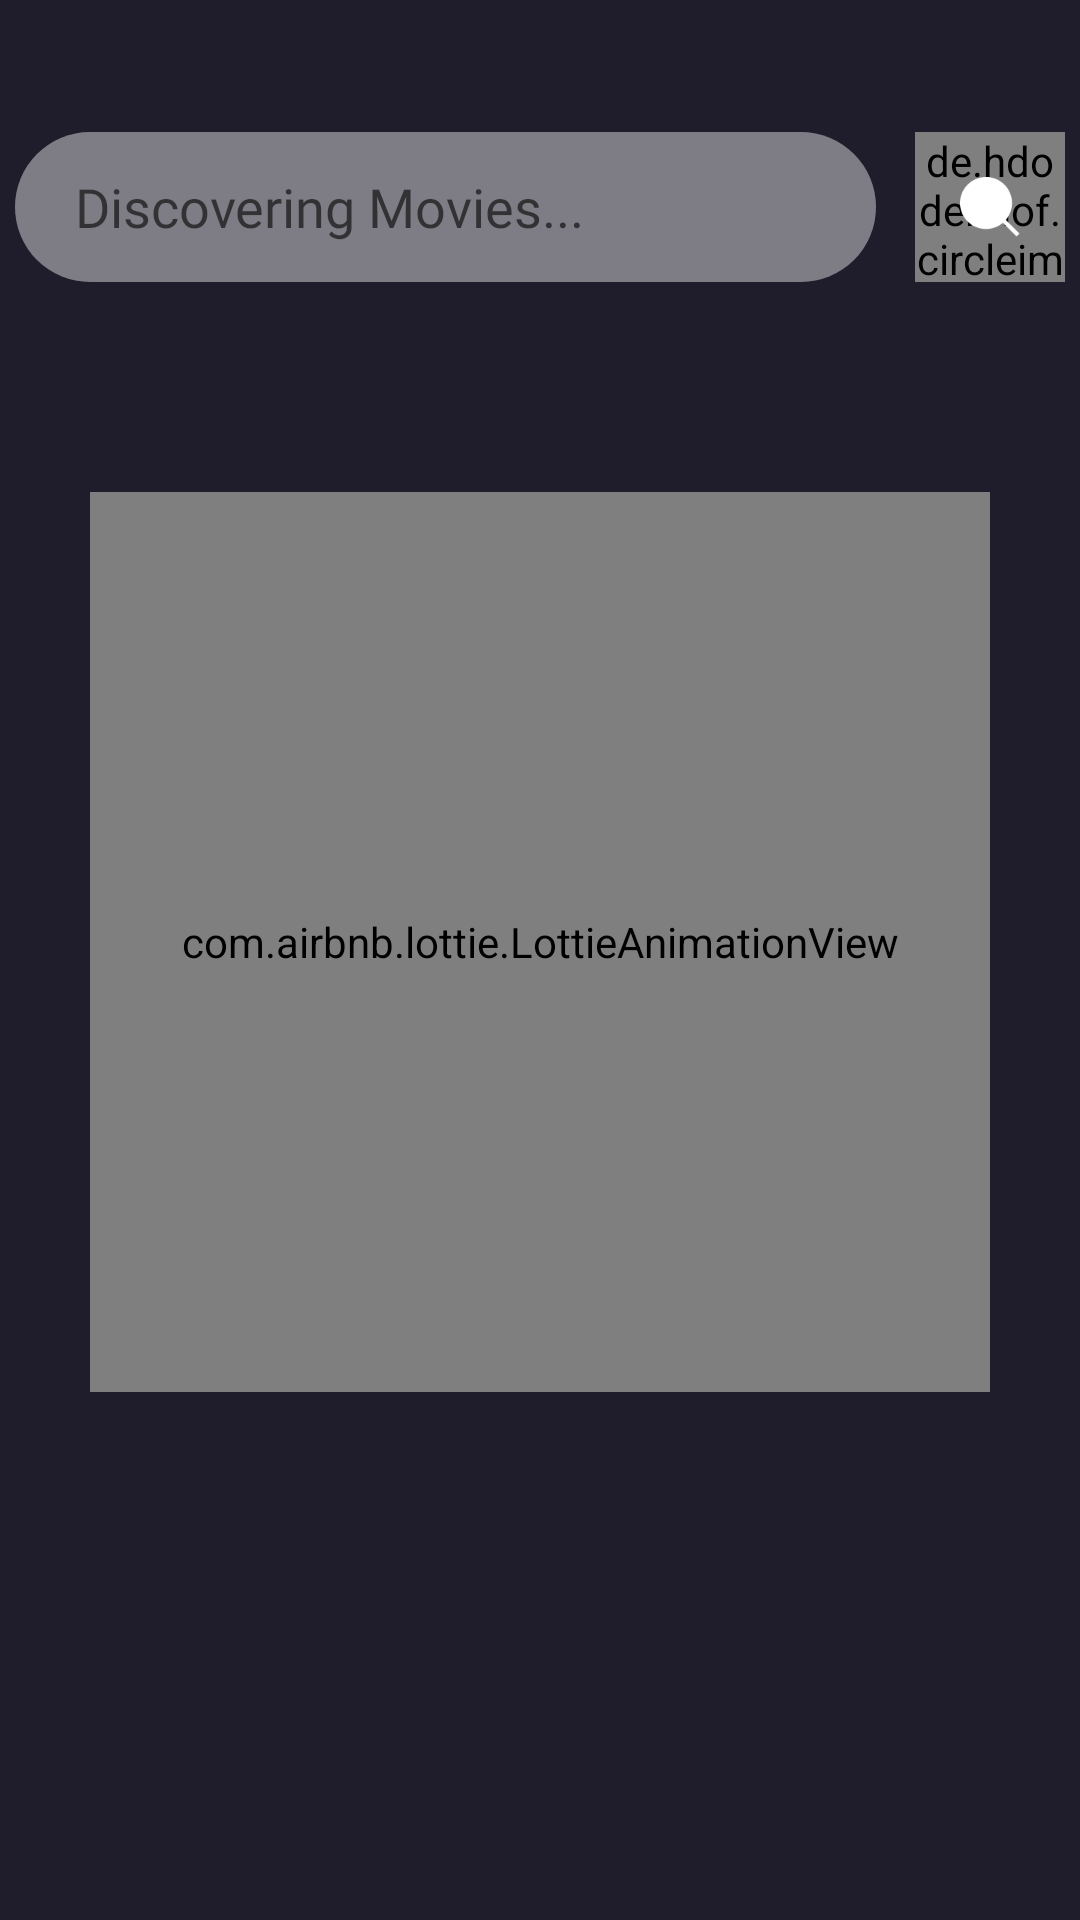

Named icons in this screenshot (1080x1920) and their bounding boxes, (x1, y1, x2, y2):
search: (960, 177, 1020, 236)
